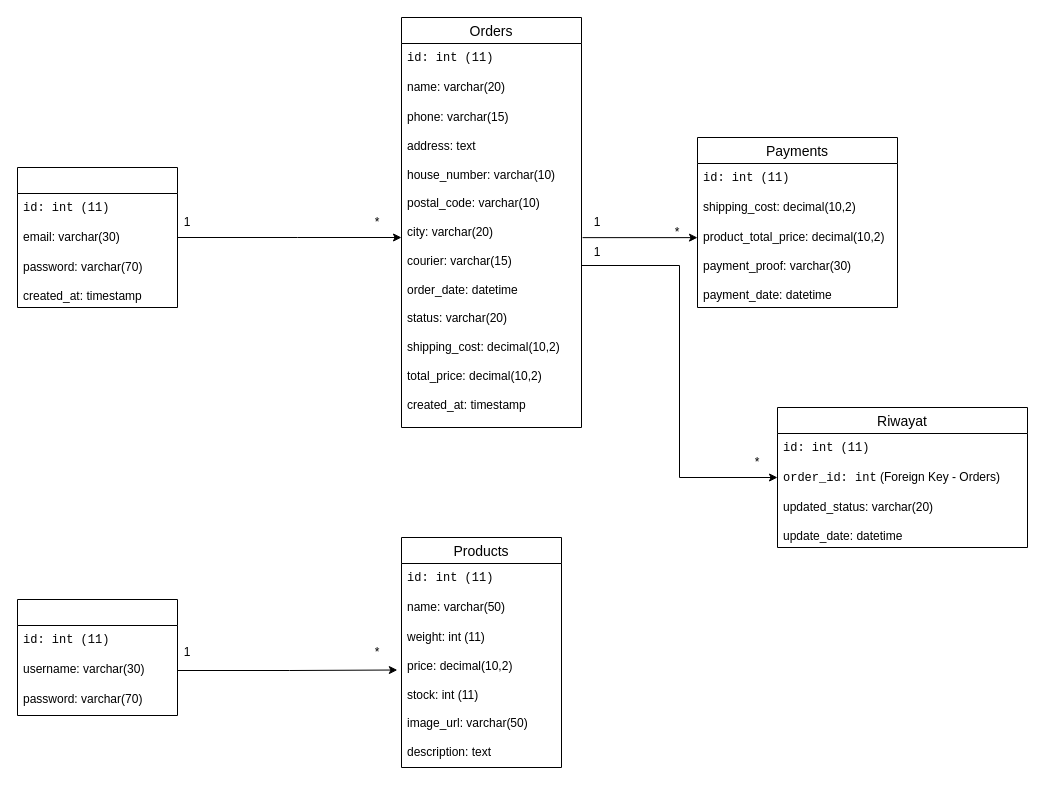
This 1045x788 diagram has some shape labels left out. The shapes that lost their labels are listed below. From the top down, each one's box as (x1, y1, x2, y2) in pixels, then its label:
(16, 166, 178, 308): Users
(16, 598, 178, 716): Admin
